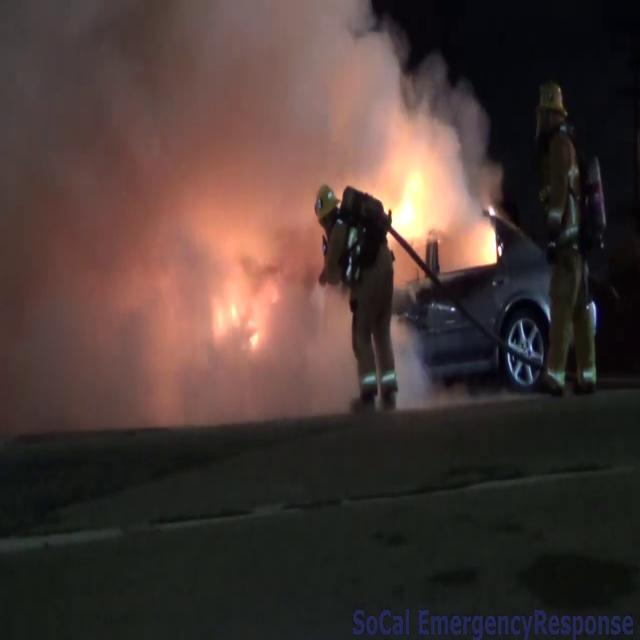Fire: (378, 149, 432, 247), (212, 270, 268, 350)
Smoke: (6, 5, 497, 425)
